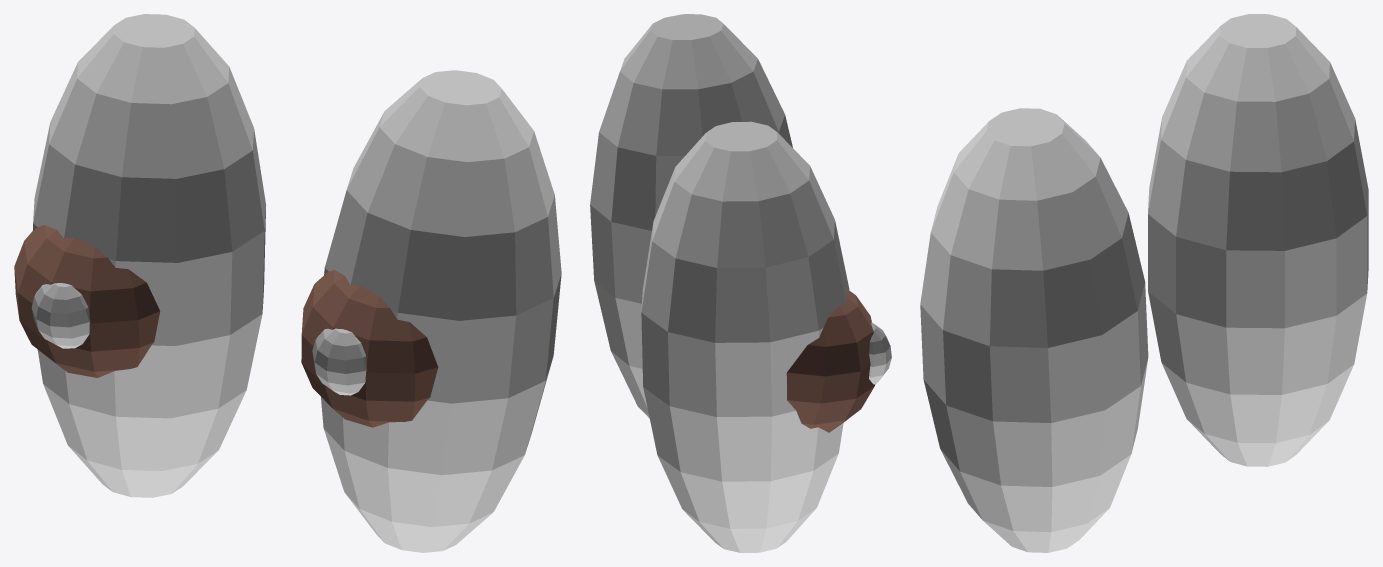
Rendered from Eyes.obj.
3 renders of one model, left to right at view 1: azimuth 30°, elevation 25°; view 2: azimuth 150°, elevation 25°; view 3: azimuth 270°, elevation 25°, orthographic. The views are drawn at different scales.
Visible parts, largest first — view 1: group1129692740, group2133194535, group1260954412, group917537304, group1733034904, group1076722292; view 2: group2133194535, group1129692740, group1260954412, group1733034904; view 3: group2133194535, group1129692740.
Part boxes in pixels (box(x1,y1,x2,y2)): group1129692740: box(321, 70, 561, 552); group2133194535: box(33, 14, 266, 497); group1260954412: box(14, 225, 160, 377); group917537304: box(301, 270, 438, 427); group1733034904: box(31, 283, 90, 348); group1076722292: box(312, 328, 366, 395); group2133194535: box(641, 121, 849, 552); group1129692740: box(590, 14, 792, 418); group1260954412: box(786, 290, 875, 432); group1733034904: box(869, 322, 891, 384); group2133194535: box(1148, 14, 1368, 466); group1129692740: box(920, 108, 1148, 552).
Bounding box in the file's own units: 0.8238 × 0.9276 × 0.8183.
